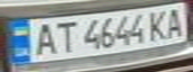4: (78, 16, 103, 51), (127, 10, 151, 45), (115, 11, 133, 47)
6: (100, 15, 118, 49)
A: (27, 20, 60, 56), (160, 4, 190, 38)
K: (145, 7, 172, 42)
T: (51, 19, 78, 54)
